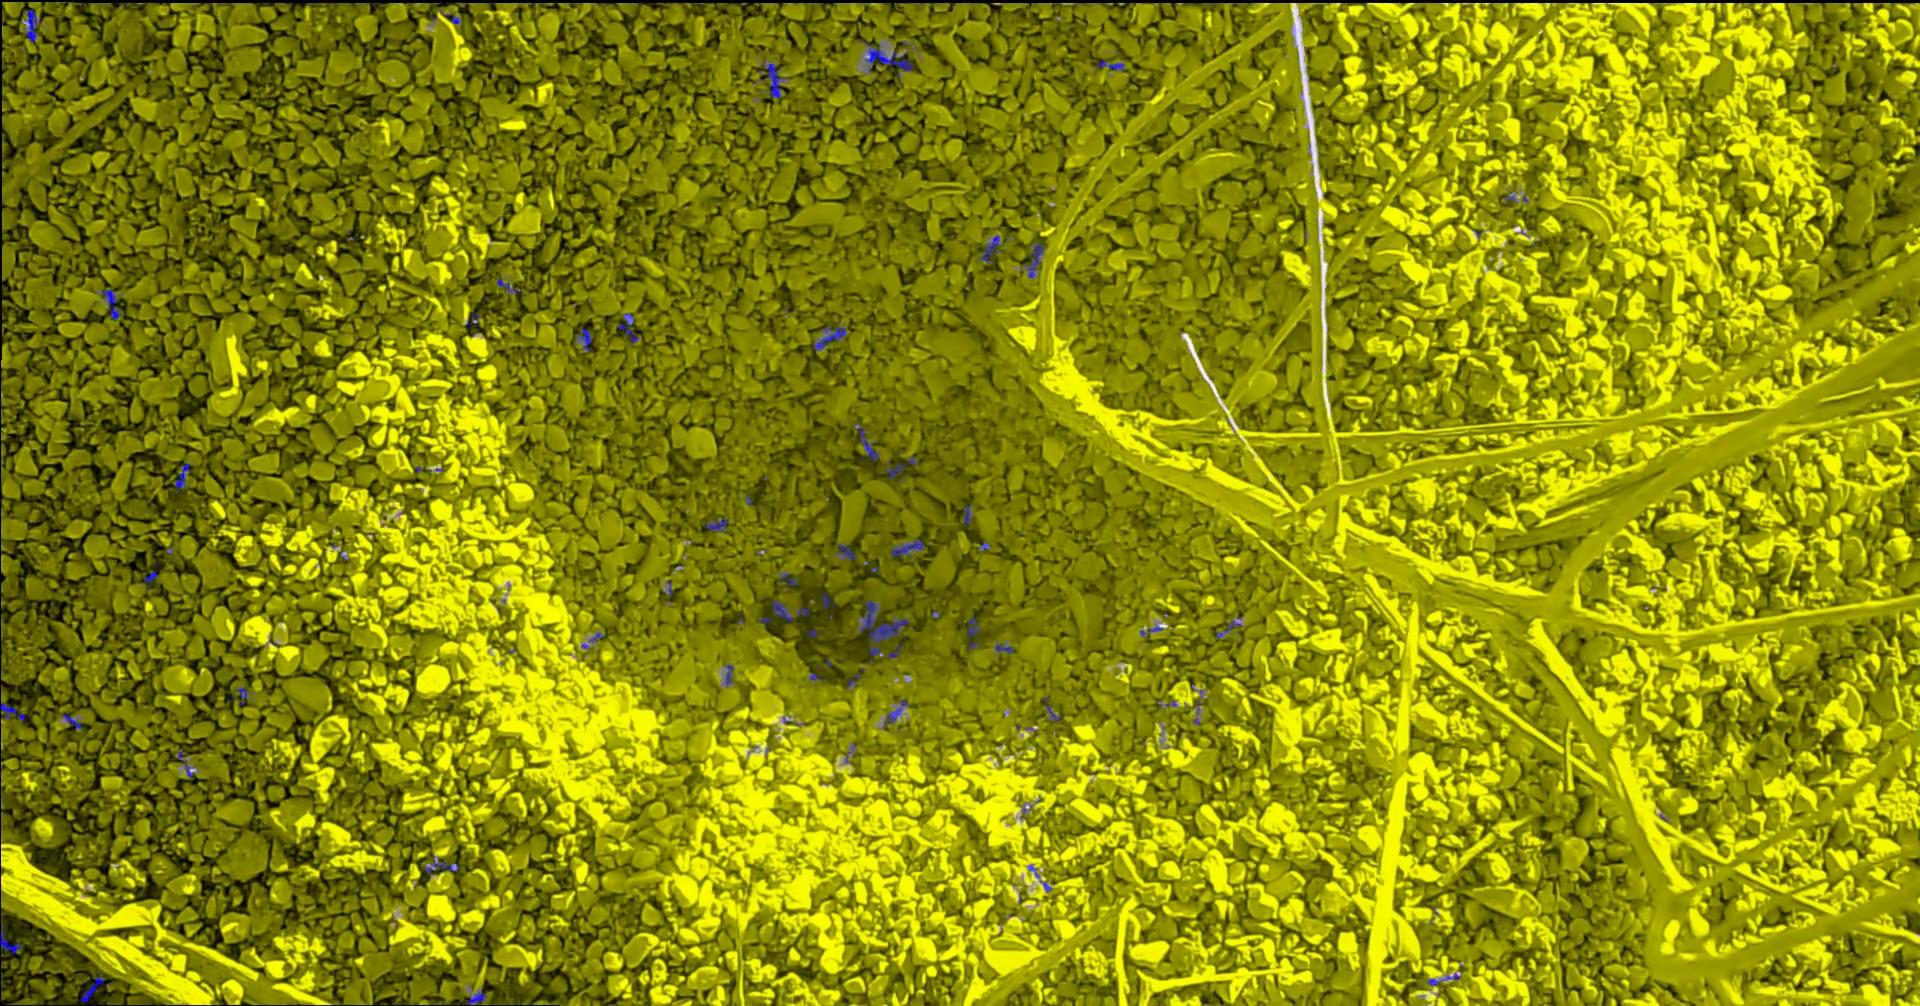ant: (857, 600, 909, 663), (861, 39, 913, 77), (756, 58, 786, 98), (79, 972, 110, 1002), (853, 423, 879, 460), (811, 325, 846, 351), (423, 855, 458, 876), (1023, 241, 1044, 278), (95, 288, 119, 319), (977, 234, 1001, 263), (0, 922, 22, 954), (883, 699, 908, 725), (20, 9, 39, 43), (889, 539, 924, 556), (616, 312, 637, 342), (177, 749, 196, 777), (1217, 617, 1241, 639), (771, 600, 792, 622), (0, 701, 25, 720), (885, 459, 905, 481), (174, 462, 189, 493), (1043, 696, 1060, 721), (495, 277, 521, 293), (575, 326, 592, 351), (968, 615, 979, 649), (703, 517, 728, 532), (61, 713, 83, 729), (1096, 58, 1124, 71), (778, 572, 797, 589), (836, 542, 856, 559), (883, 643, 902, 658), (466, 989, 485, 1005), (140, 570, 157, 584), (963, 503, 973, 525), (236, 686, 248, 705), (822, 592, 836, 607), (994, 643, 1013, 653), (724, 664, 733, 685)
